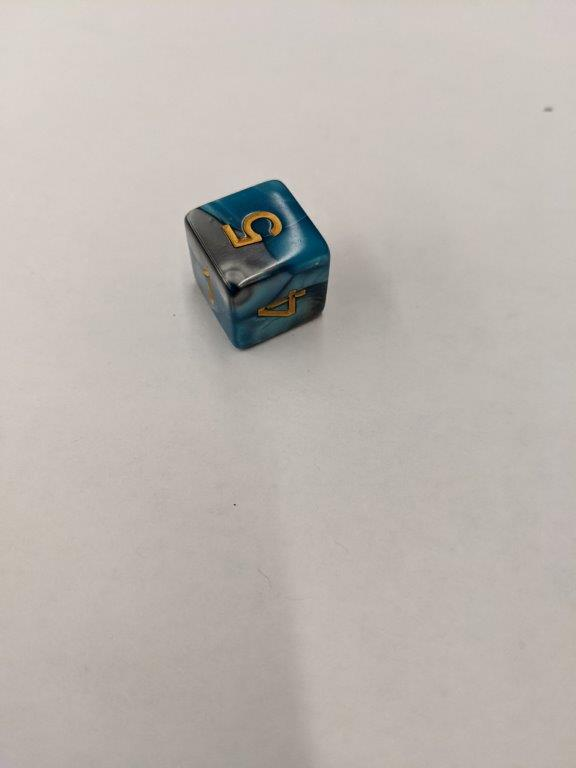d6-5: (186, 178, 329, 353)
